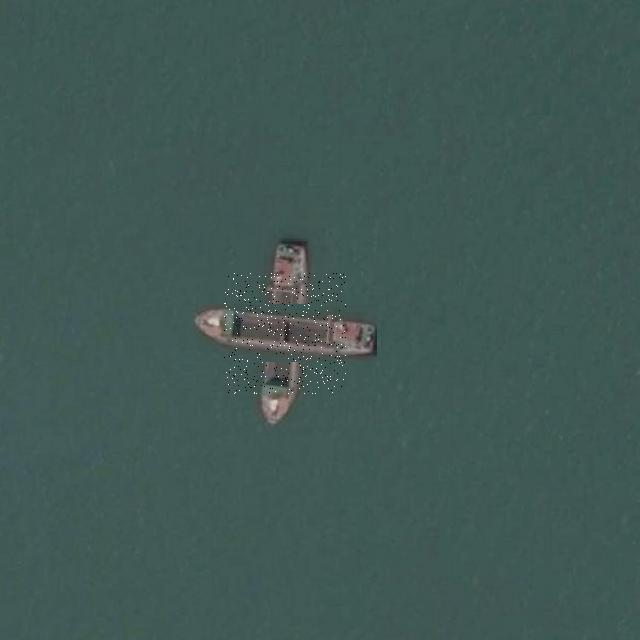boat: (224, 273, 346, 394)
